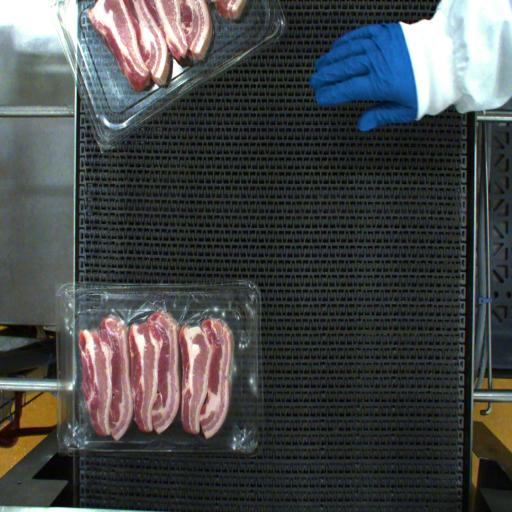unsealed: (74, 295, 242, 432)
